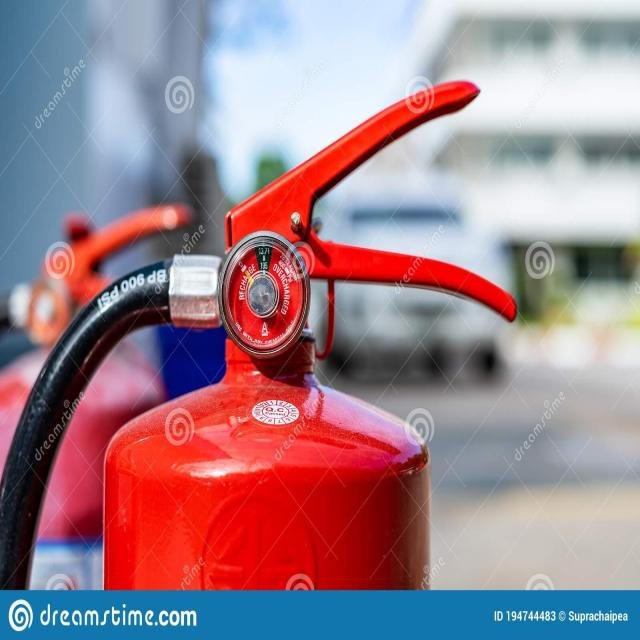fire_extinguisher: (0, 76, 524, 591)
